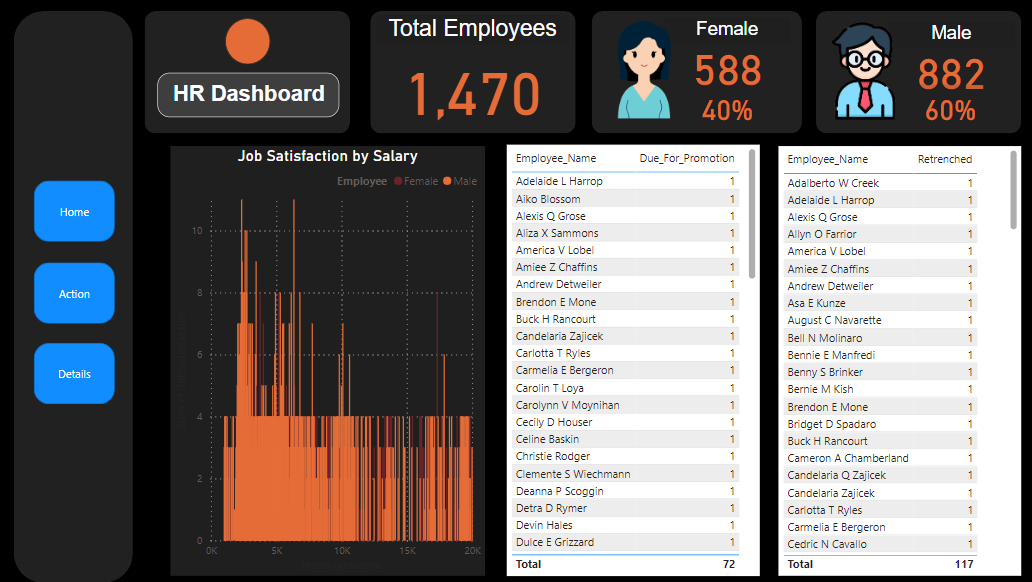

The page's visual inventory and layout, read from the dashboard file:
{"tool":"powerbi","page":{"name":"Action","canvas":[1280,720],"ordinal":1},"visuals":[{"type":"shape","title":"Details","box":[47.4,222.8,98.9,74.8],"z":0,"group":"g1"},{"type":"shape","box":[22.8,15.8,145.6,698.3],"z":0},{"type":"shape","box":[183.3,15.7,250.9,149.5],"z":1000},{"type":"shape","title":"Action","box":[47.4,322.9,98.9,74.8],"z":1000,"group":"g1"},{"type":"shape","box":[457.1,15.7,250.9,149.5],"z":2000},{"type":"shape","title":"Home","box":[47.4,420.6,98.9,74.8],"z":2000,"group":"g1"},{"type":"shape","box":[728.4,15.7,256.9,149.5],"z":3000},{"type":"shape","box":[1002.2,15.7,250.9,149.5],"z":4000},{"type":"textbox","box":[197.8,90.5,221.9,54.3],"z":5000},{"type":"shape","box":[281,24.1,55.5,56.7],"z":6000},{"type":"card","title":"Total Employees","fields":{"Values":["New_Measures.Total_Emp"]},"box":[465.2,20.6,236,140],"z":7000},{"type":"card","title":"Female","fields":{"Values":["New_Measures.Female_Count"]},"box":[816,24.7,155.2,87.9],"z":8000},{"type":"card","title":"Female","fields":{"Values":["New_Measures.%_Female"]},"box":[842.5,105.7,102.9,59],"z":9000},{"type":"image","box":[727.3,20.6,129,133.1],"z":10000},{"type":"card","title":"Male","fields":{"Values":["New_Measures.Male_Count"]},"box":[1089.3,30.2,155.2,87.9],"z":11000},{"type":"card","title":"Female","fields":{"Values":["New_Measures.%_Male"]},"box":[1114.1,104.4,103,59.1],"z":12000},{"type":"image","box":[990.4,24.7,137.4,129.1],"z":13000},{"type":"tableEx","fields":{"Values":["HR Analytics Data.Employee_Name","New_Measures.Due_For_Promotion"]},"box":[624.6,179,308.8,526.3],"z":14000},{"type":"tableEx","fields":{"Values":["HR Analytics Data.Employee_Name","New_Measures.Retrenched"]},"box":[956.2,180.7,296.5,524.6],"z":15000},{"type":"group","id":"g1","title":"Group 1","box":[47.4,222.8,100,273.7],"z":16000},{"type":"columnChart","title":"Job Satisfaction by Salary","fields":{"Series":["HR Analytics Data.Gender"],"Category":["HR Analytics Data.MonthlyIncome"],"Y":["HR Analytics Data.JobSatisfaction"]},"box":[214,180.7,384.2,524.6],"z":17000}]}

Visuals, with their boxes in screenshot pixels (x1, y1, x2, y2), scaled from the page's 1280x720 canvas onto the 1032x582 screenshot:
"Details" shape: bbox(38, 180, 118, 241)
shape: bbox(18, 13, 136, 577)
shape: bbox(148, 13, 350, 134)
"Action" shape: bbox(38, 261, 118, 321)
shape: bbox(369, 13, 571, 134)
"Home" shape: bbox(38, 340, 118, 400)
shape: bbox(587, 13, 794, 134)
shape: bbox(808, 13, 1010, 134)
textbox: bbox(159, 73, 338, 117)
shape: bbox(227, 19, 271, 65)
"Total Employees" card: bbox(375, 17, 565, 130)
"Female" card: bbox(658, 20, 783, 91)
"Female" card: bbox(679, 85, 762, 133)
image: bbox(586, 17, 690, 124)
"Male" card: bbox(878, 24, 1003, 95)
"Female" card: bbox(898, 84, 981, 132)
image: bbox(799, 20, 909, 124)
tableEx - HR Analytics Data.Employee_Name x New_Measures.Due_For_Promotion: bbox(504, 145, 753, 570)
tableEx - HR Analytics Data.Employee_Name x New_Measures.Retrenched: bbox(771, 146, 1010, 570)
"Group 1" group: bbox(38, 180, 119, 401)
"Job Satisfaction by Salary" columnChart: bbox(173, 146, 482, 570)
